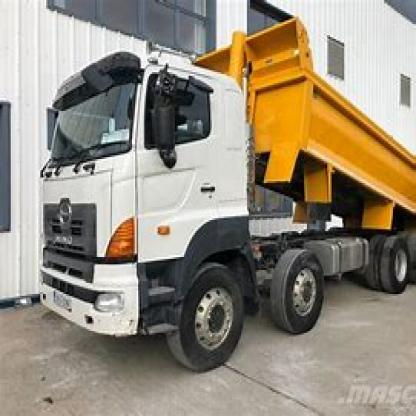dump_truck: (34, 11, 414, 372)
